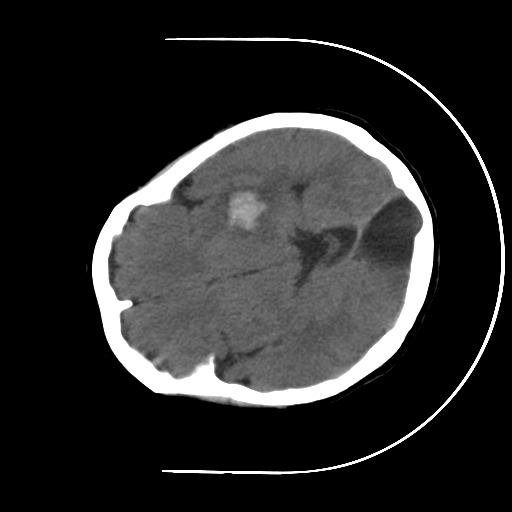a: (203, 176, 287, 247)
